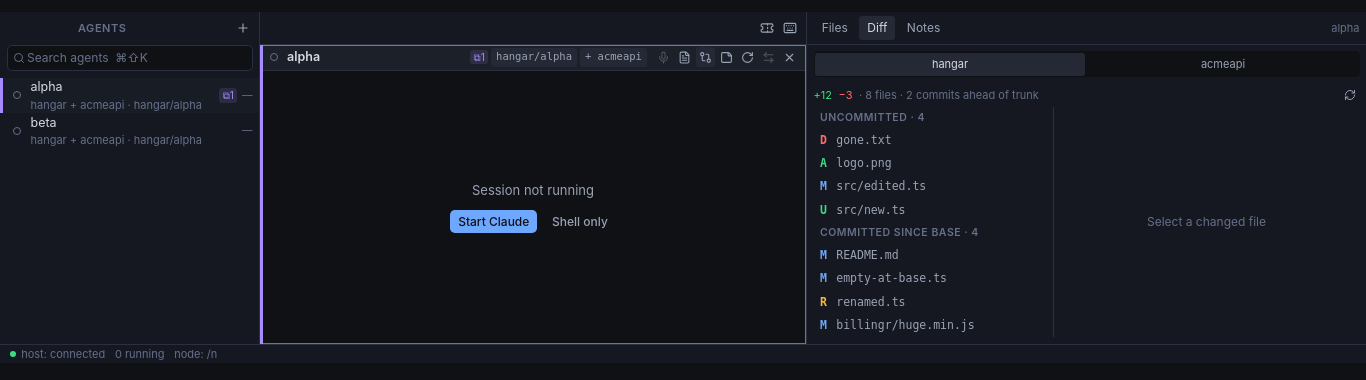
placement in the whole app (G60) › reports a failed change set and a failed file diff in place, never as a toast
This screenshot has width=1366, height=380.
Step 1. Click the option "M src/edited.ts" → (933, 187), box [814,175,1052,199]
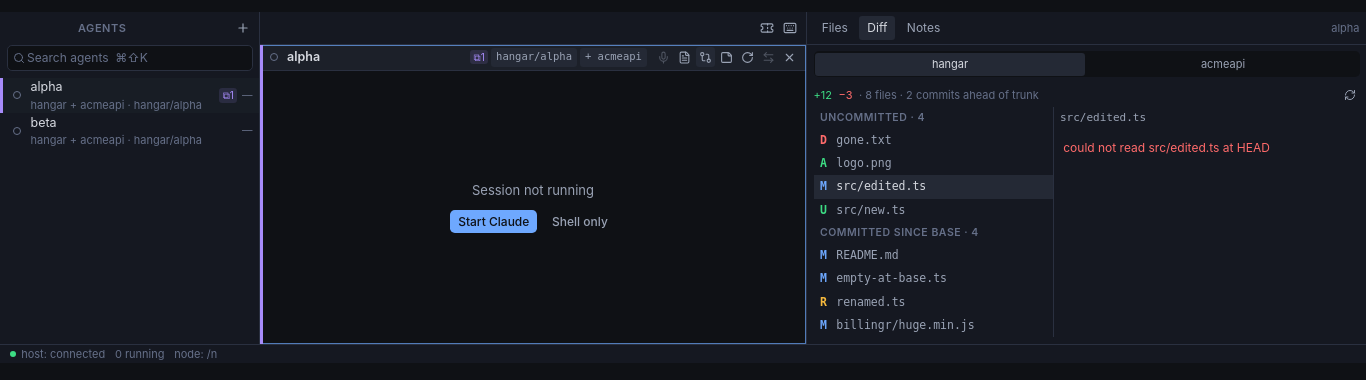
Now the text "could not read src/edited.ts at HEAD" is shown, box [1063,140,1270,155]
